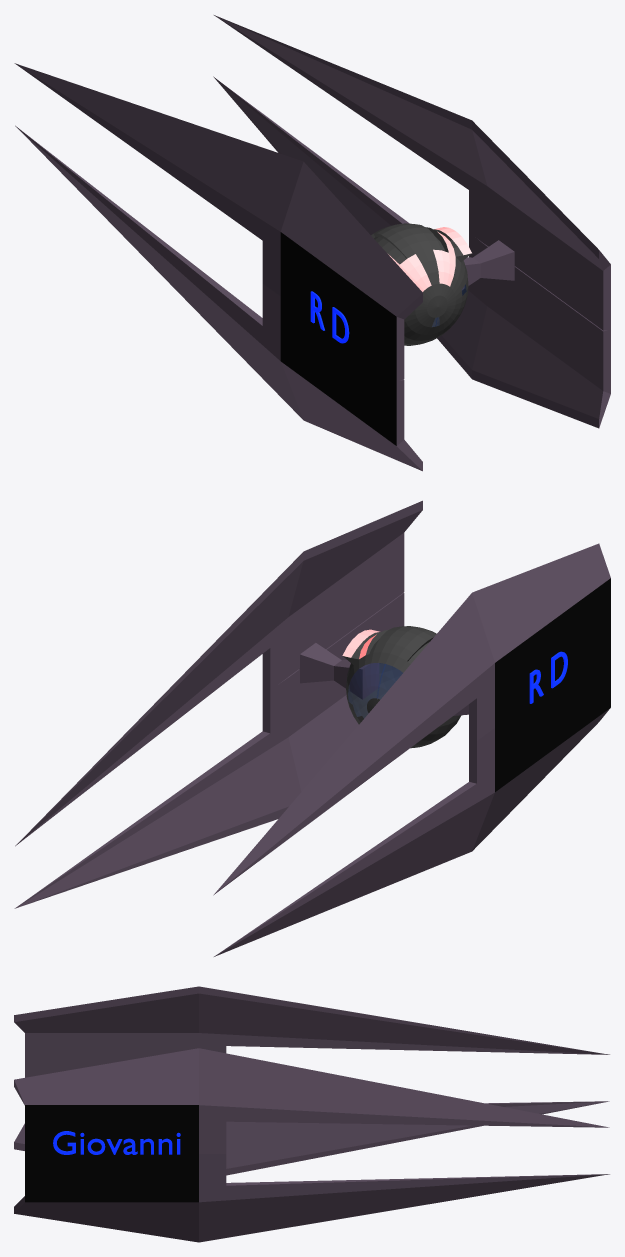
The model's file is unsa.glb.
3 renders of one model, top to bottom at view 1: azimuth 30°, elevation 25°; view 2: azimuth 150°, elevation 25°; view 3: azimuth 270°, elevation 25°, orthographic. The views are drawn at different scales.
Parts seen in each view (by area): view 1: Text.001; view 2: Text.001; view 3: Text.001.
Part boxes in pixels (x1=…): Text.001: x1=14, y1=15, x2=610, y2=471; Text.001: x1=14, y1=500, x2=610, y2=956; Text.001: x1=14, y1=986, x2=609, y2=1242.
Bounding box in the file's own units: 5.22 × 5.87 × 16.34.
